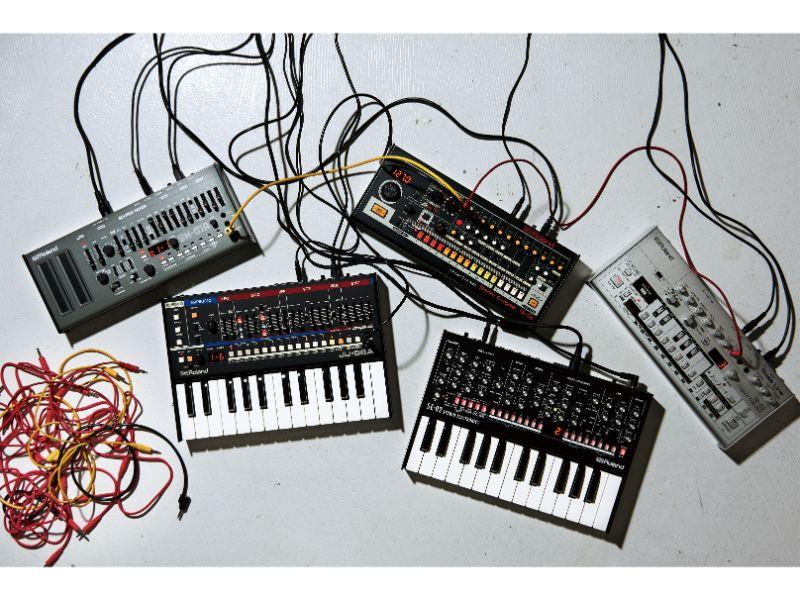synthesizer: (406, 330, 649, 532), (156, 288, 389, 433)
